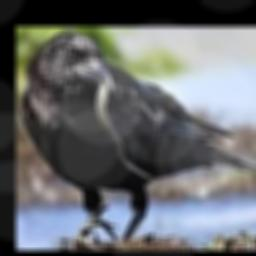Crow: (19, 31, 256, 241)
